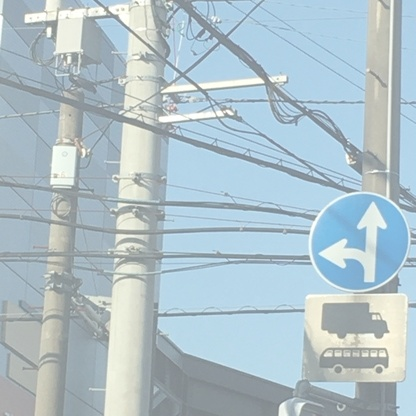Direction_sign: (303, 186, 416, 290)
